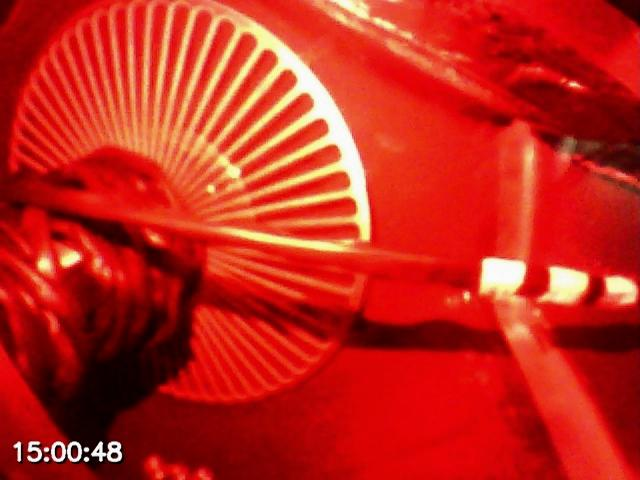white-dots: (479, 257, 640, 313)
